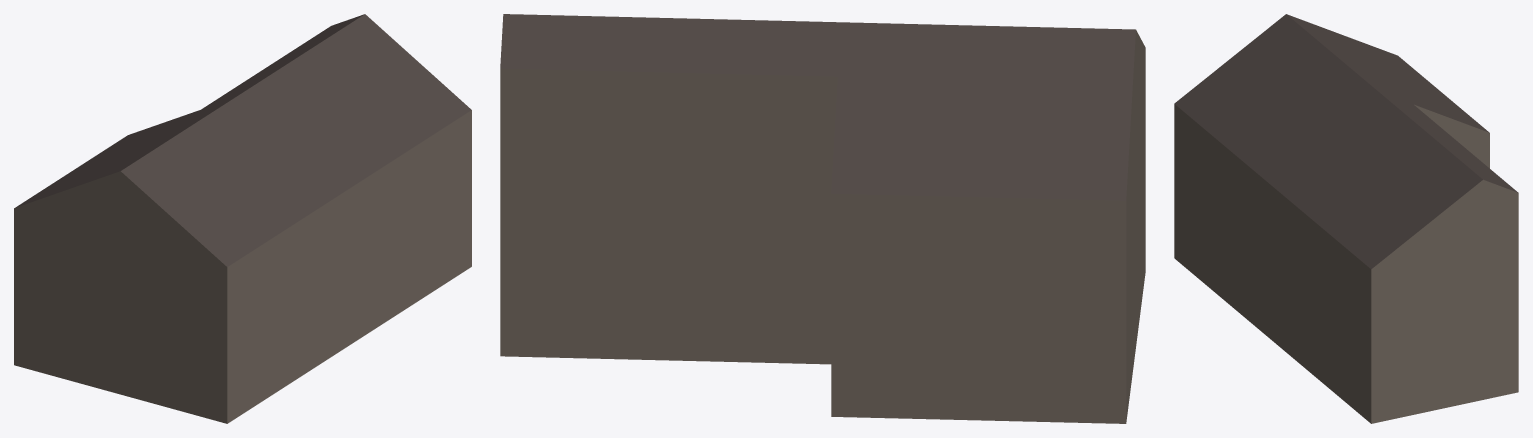
The picture shows the model from 3 angles, left to right: view 1: azimuth 30°, elevation 25°; view 2: azimuth 150°, elevation 25°; view 3: azimuth 270°, elevation 25°; orthographic projection. The views are drawn at different scales.
Parts seen in each view (by area): view 1: HP-w1467537298; view 2: HP-w1467537298; view 3: HP-w1467537298.
Part boxes in pixels (x1,y1,x2,y2): HP-w1467537298: (14, 14, 471, 423); HP-w1467537298: (500, 14, 1145, 423); HP-w1467537298: (1174, 14, 1518, 423).
Bounding box in the file's own units: 26.69 × 12.83 × 18.18.
